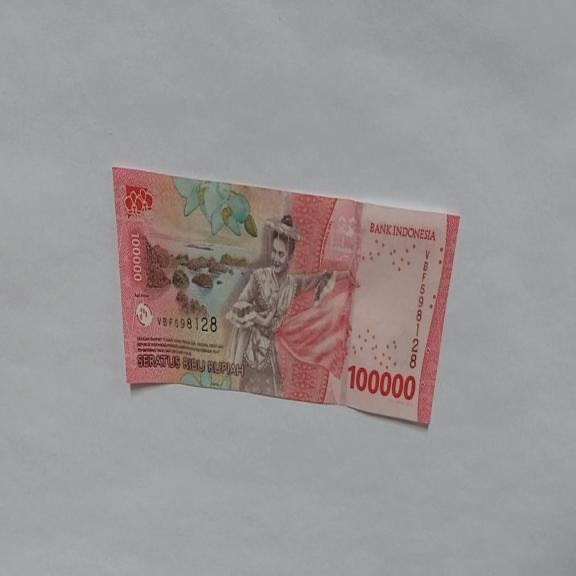Kertas: (111, 164, 461, 429), (347, 362, 416, 401)
